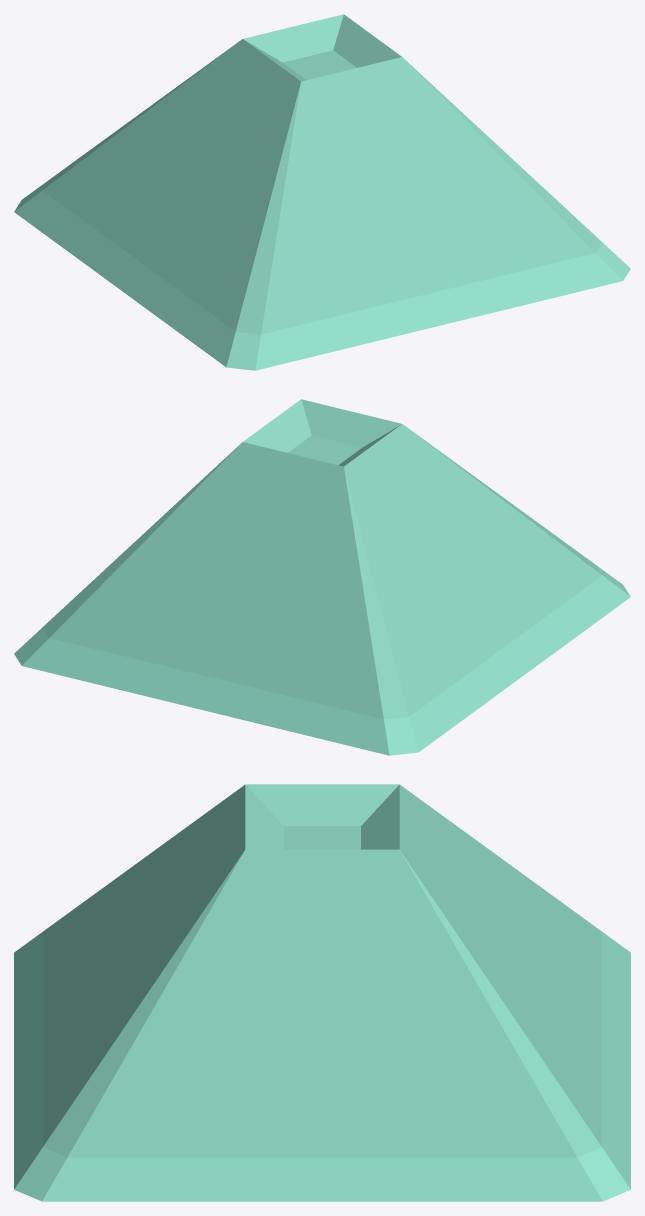
Rendered from roof_point.glb.
The picture shows the model from 3 angles, top to bottom: view 1: azimuth 30°, elevation 25°; view 2: azimuth 150°, elevation 25°; view 3: azimuth 270°, elevation 25°; orthographic projection. The views are drawn at different scales.
Parts seen in each view (by area): view 1: roofPoint; view 2: roofPoint; view 3: roofPoint.
Part boxes in pixels (bbox=[...]): roofPoint: bbox=[14, 14, 630, 370]; roofPoint: bbox=[14, 399, 630, 755]; roofPoint: bbox=[14, 784, 630, 1201].
Size of the model in its own units: 1.1 by 0.5 by 1.1.
